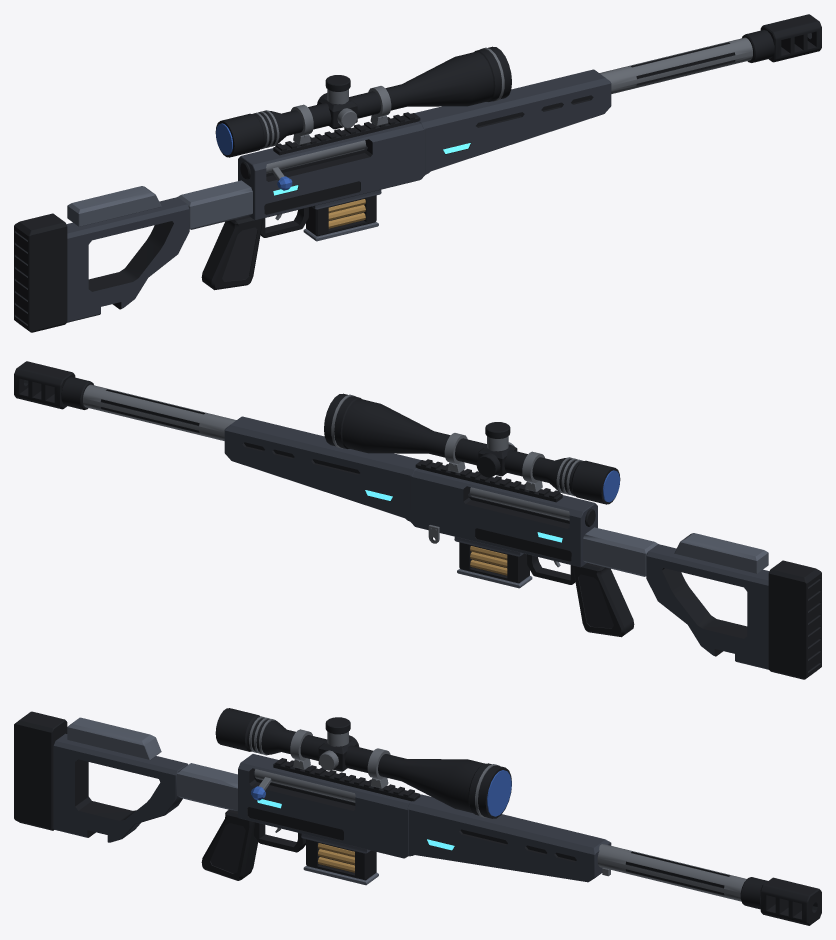
Rendered from Operator.fbx.
3 renders of one model, top to bottom at view 1: azimuth 30°, elevation 25°; view 2: azimuth 150°, elevation 25°; view 3: azimuth 330°, elevation 25°, orthographic.
Parts seen in each view (by area): view 1: Handguard_Body, Scope_Dark, Receiver_Body, Stock_Dark, Stock_Body, Stock_Panel, Receiver_Dark, Barrel_Dark, Barrel_Metal, Scope_Metal, Grip_Dark, Grip_Grip (+3 smaller); view 2: Scope_Dark, Handguard_Body, Receiver_Body, Stock_Dark, Stock_Body, Stock_Panel, Receiver_Dark, Barrel_Dark, Barrel_Metal, Grip_Dark, Scope_Metal, Grip_Grip (+3 smaller); view 3: Handguard_Body, Scope_Dark, Receiver_Body, Stock_Body, Stock_Dark, Stock_Panel, Receiver_Dark, Barrel_Dark, Barrel_Metal, Scope_Metal, Grip_Dark, Magazine_Dark (+6 smaller).
Part boxes in pixels (<box>): Handguard_Body: <box>414,69,611,174</box>; Scope_Dark: <box>215,46,511,157</box>; Receiver_Body: <box>238,121,425,220</box>; Stock_Dark: <box>14,213,173,332</box>; Stock_Body: <box>66,197,189,322</box>; Stock_Panel: <box>67,180,252,229</box>; Receiver_Dark: <box>260,112,420,237</box>; Barrel_Dark: <box>631,14,821,85</box>; Barrel_Metal: <box>599,37,752,93</box>; Scope_Metal: <box>253,47,504,149</box>; Grip_Dark: <box>201,215,262,290</box>; Grip_Grip: <box>222,227,257,281</box>; Scope_Dark: <box>324,393,620,504</box>; Handguard_Body: <box>224,416,421,521</box>; Receiver_Body: <box>410,468,597,567</box>; Stock_Dark: <box>662,560,821,679</box>; Stock_Body: <box>646,544,769,669</box>; Stock_Panel: <box>583,527,768,576</box>; Receiver_Dark: <box>415,459,575,584</box>; Barrel_Dark: <box>14,361,204,432</box>; Barrel_Metal: <box>83,384,236,440</box>; Grip_Dark: <box>573,562,634,637</box>; Scope_Metal: <box>331,394,582,496</box>; Grip_Grip: <box>578,574,613,628</box>; Handguard_Body: <box>407,794,611,882</box>; Scope_Dark: <box>215,708,511,818</box>; Receiver_Body: <box>238,754,420,858</box>; Stock_Body: <box>53,733,188,842</box>; Stock_Dark: <box>14,711,136,837</box>; Stock_Panel: <box>67,717,237,811</box>; Receiver_Dark: <box>247,758,420,852</box>; Barrel_Dark: <box>625,851,821,925</box>; Barrel_Metal: <box>597,844,746,901</box>; Scope_Metal: <box>249,716,499,817</box>; Grip_Dark: <box>201,809,258,880</box>; Magazine_Dark: <box>306,839,376,880</box>.
Size of the model in its own units: 4.84 by 1.04 by 0.3159.
